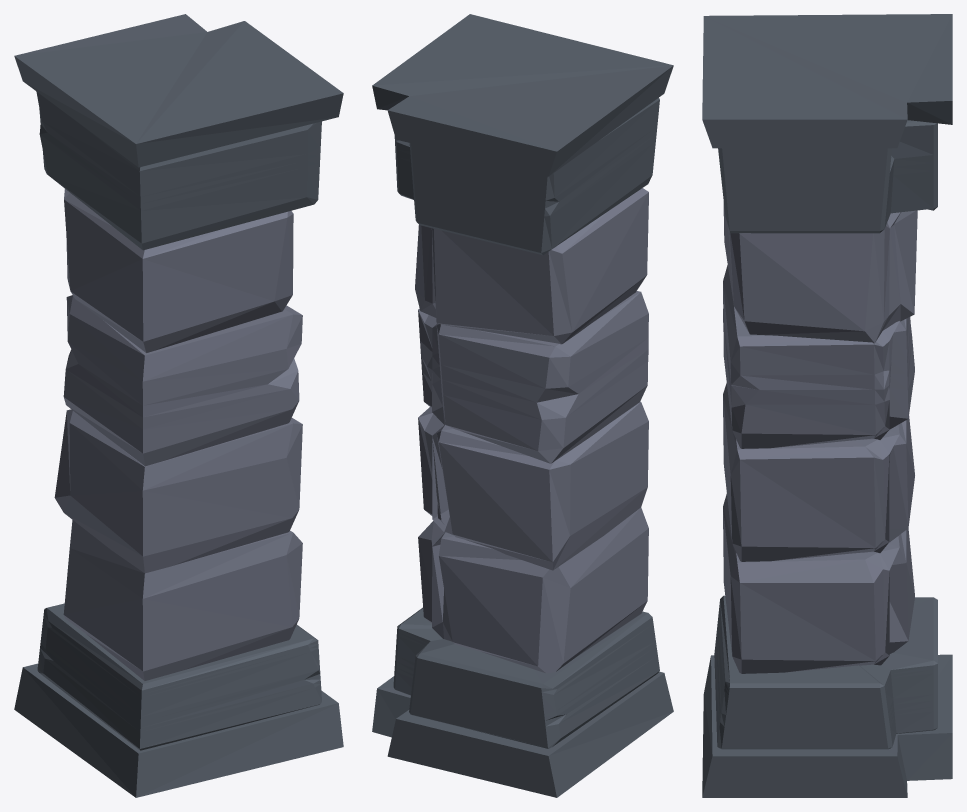
Rendered from Corner_Column.glb.
3 views of the same model, side by side, from view 1: azimuth 30°, elevation 25°; view 2: azimuth 150°, elevation 25°; view 3: azimuth 270°, elevation 25° (orthographic). The views are drawn at different scales.
Visible parts, largest first — view 1: world; view 2: world; view 3: world.
Part boxes in pixels (x1,y1,x2,y2): world: [14, 14, 343, 797]; world: [372, 14, 673, 797]; world: [702, 14, 952, 797].
Bounding box in the file's own units: 170 × 511 × 171.
